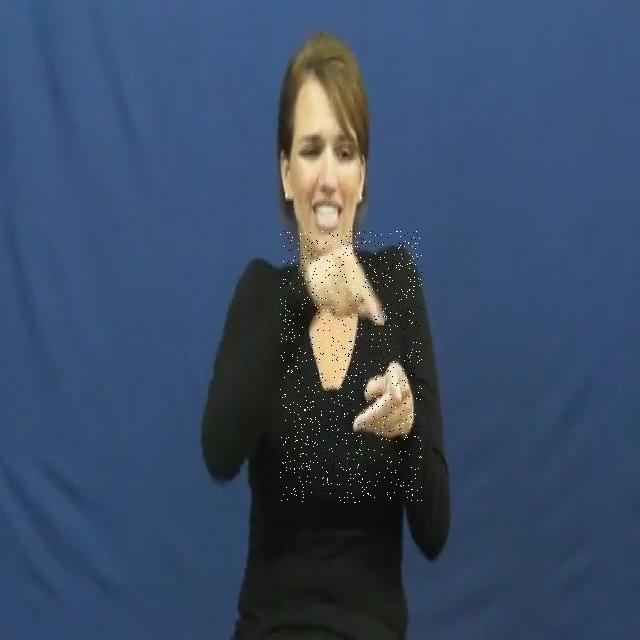lactose: (280, 231, 422, 503)
